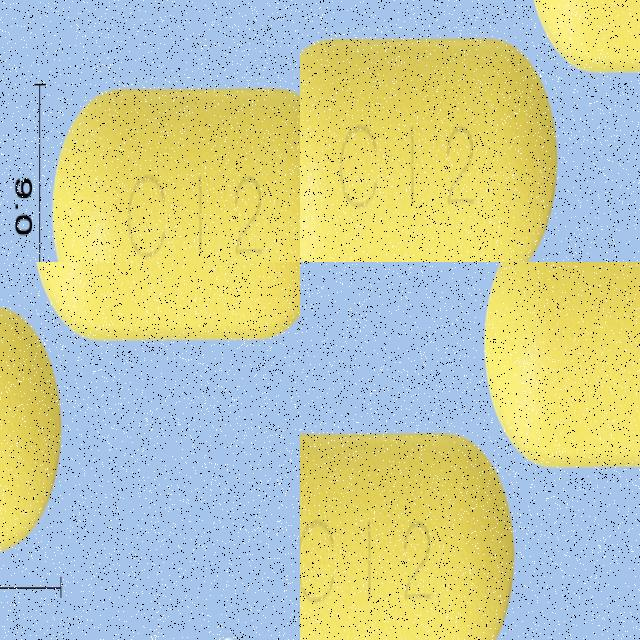Amoxicle-7-1-: (64, 103, 300, 262)
Ciplus: (300, 0, 516, 262), (546, 0, 640, 262)
Clarin: (0, 377, 110, 640)
Clomycin: (300, 431, 515, 640), (483, 262, 640, 466)
